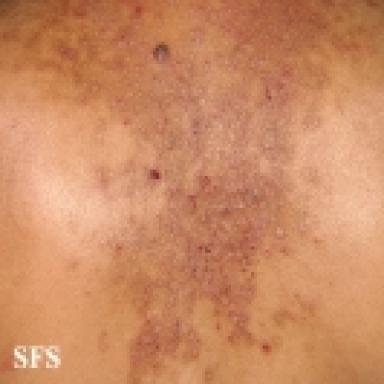Darier_s-Disease: (0, 0, 377, 384)
